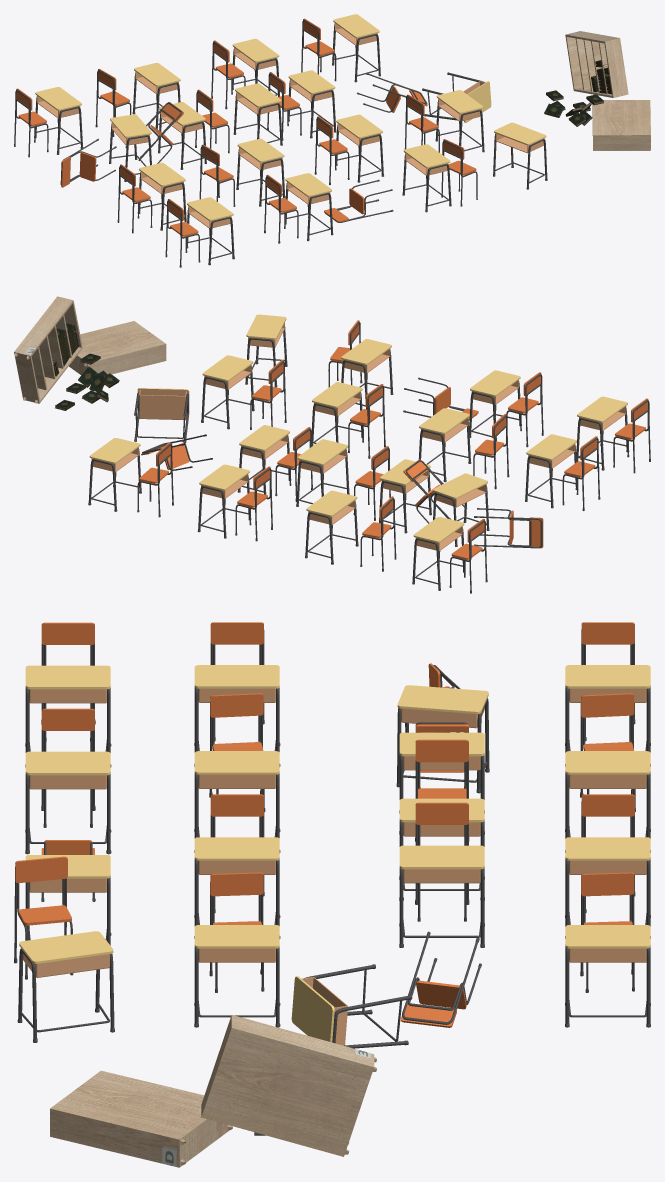
File: salon n4.fbx
3 renders of one model, top to bottom at view 1: azimuth 30°, elevation 25°; view 2: azimuth 150°, elevation 25°; view 3: azimuth 270°, elevation 25°, orthographic. The views are drawn at different scales.
Visible parts, largest first — view 1: Bookcase.003, Mesa N40.067, Mesa N40.073, Mesa N40.066, Mesa N40.069, Mesa N40.071, Mesa N40.068, Mesa N40.075, Mesa N40.063, Mesa N40.072, Mesa N40.074, Mesa N40.070 (+23 smaller); view 2: Bookcase.003, Mesa N40.077, Mesa N40.064, Mesa N40.066, Mesa N40.068, Mesa N40.065, Mesa N40.076, Mesa N40.063, Mesa N40.071, Mesa N40.072, Mesa N40.075, Mesa N40.007 (+23 smaller); view 3: Bookcase.003, Mesa N40.067, Mesa N40.070, Mesa N40.077, Mesa N40.066, Mesa N40.068, Mesa N40.007, Mesa N40.074, Mesa N40.075, Mesa N40.064, Mesa N40.072, Mesa N40.065 (+21 smaller).
Boxes of the visible parts, x1,y1,x2,y2 form: Bookcase.003: [544, 31, 650, 150]; Mesa N40.067: [493, 122, 547, 189]; Mesa N40.073: [402, 144, 451, 212]; Mesa N40.066: [332, 14, 380, 82]; Mesa N40.069: [336, 114, 383, 182]; Mesa N40.071: [233, 83, 282, 145]; Mesa N40.068: [435, 90, 484, 152]; Mesa N40.075: [187, 197, 234, 265]; Mesa N40.063: [34, 87, 83, 154]; Mesa N40.072: [236, 138, 285, 206]; Mesa N40.074: [285, 173, 333, 241]; Mesa N40.070: [288, 70, 336, 138]; Bookcase.003: [14, 296, 166, 410]; Mesa N40.077: [134, 388, 189, 442]; Mesa N40.064: [305, 490, 358, 564]; Mesa N40.066: [88, 438, 141, 511]; Mesa N40.068: [201, 355, 254, 429]; Mesa N40.065: [197, 464, 251, 538]; Mesa N40.076: [525, 434, 576, 508]; Mesa N40.063: [412, 517, 464, 590]; Mesa N40.071: [296, 439, 349, 506]; Mesa N40.072: [418, 408, 471, 482]; Mesa N40.075: [576, 396, 629, 470]; Mesa N40.007: [433, 473, 489, 546]; Bookcase.003: [50, 1015, 376, 1167]; Mesa N40.067: [17, 931, 114, 1042]; Mesa N40.070: [399, 845, 484, 947]; Mesa N40.077: [291, 964, 412, 1048]; Mesa N40.066: [565, 925, 650, 1027]; Mesa N40.068: [194, 925, 280, 1027]; Mesa N40.007: [396, 685, 489, 793]; Mesa N40.074: [25, 751, 111, 854]; Mesa N40.075: [25, 665, 111, 767]; Mesa N40.064: [565, 751, 650, 852]; Mesa N40.072: [194, 751, 280, 852]; Mesa N40.065: [565, 837, 650, 938].
Size of the model in its own units: 1578 by 212 by 939.
Materials: 7 (2 with a texture image).
